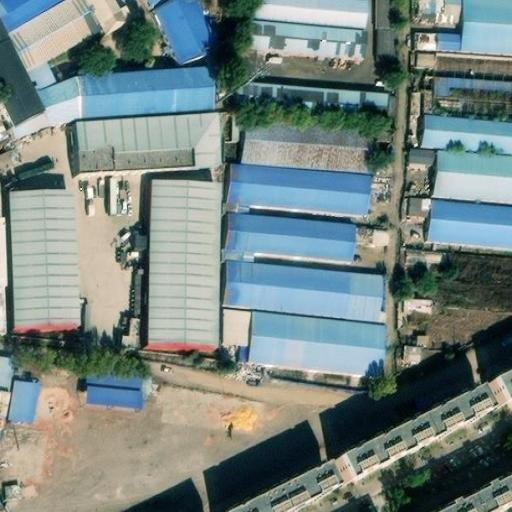building: (329, 392, 483, 485), (145, 184, 216, 352), (218, 309, 385, 374), (37, 67, 213, 127), (9, 187, 79, 333), (233, 113, 393, 175), (221, 261, 385, 321), (71, 112, 217, 172), (8, 0, 102, 90), (228, 163, 371, 215), (224, 213, 357, 263), (236, 83, 394, 125), (409, 147, 512, 203), (402, 196, 512, 246), (242, 19, 364, 61), (228, 467, 329, 512), (421, 116, 512, 154), (249, 0, 366, 28), (441, 471, 512, 512), (463, 0, 512, 58), (415, 51, 512, 80), (433, 75, 512, 104), (83, 371, 144, 407), (119, 271, 147, 349), (6, 379, 37, 420), (417, 29, 464, 55), (422, 0, 466, 25), (484, 371, 512, 407), (403, 85, 421, 139), (402, 246, 445, 265), (102, 175, 120, 215), (397, 296, 429, 314), (399, 339, 421, 360)
